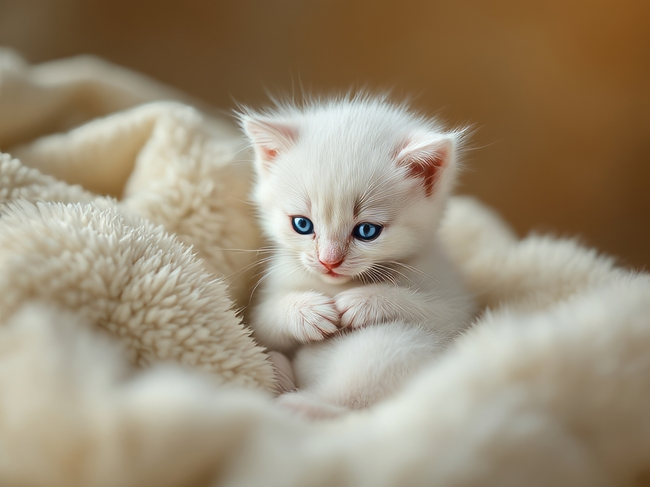cat: (224, 88, 474, 340)
